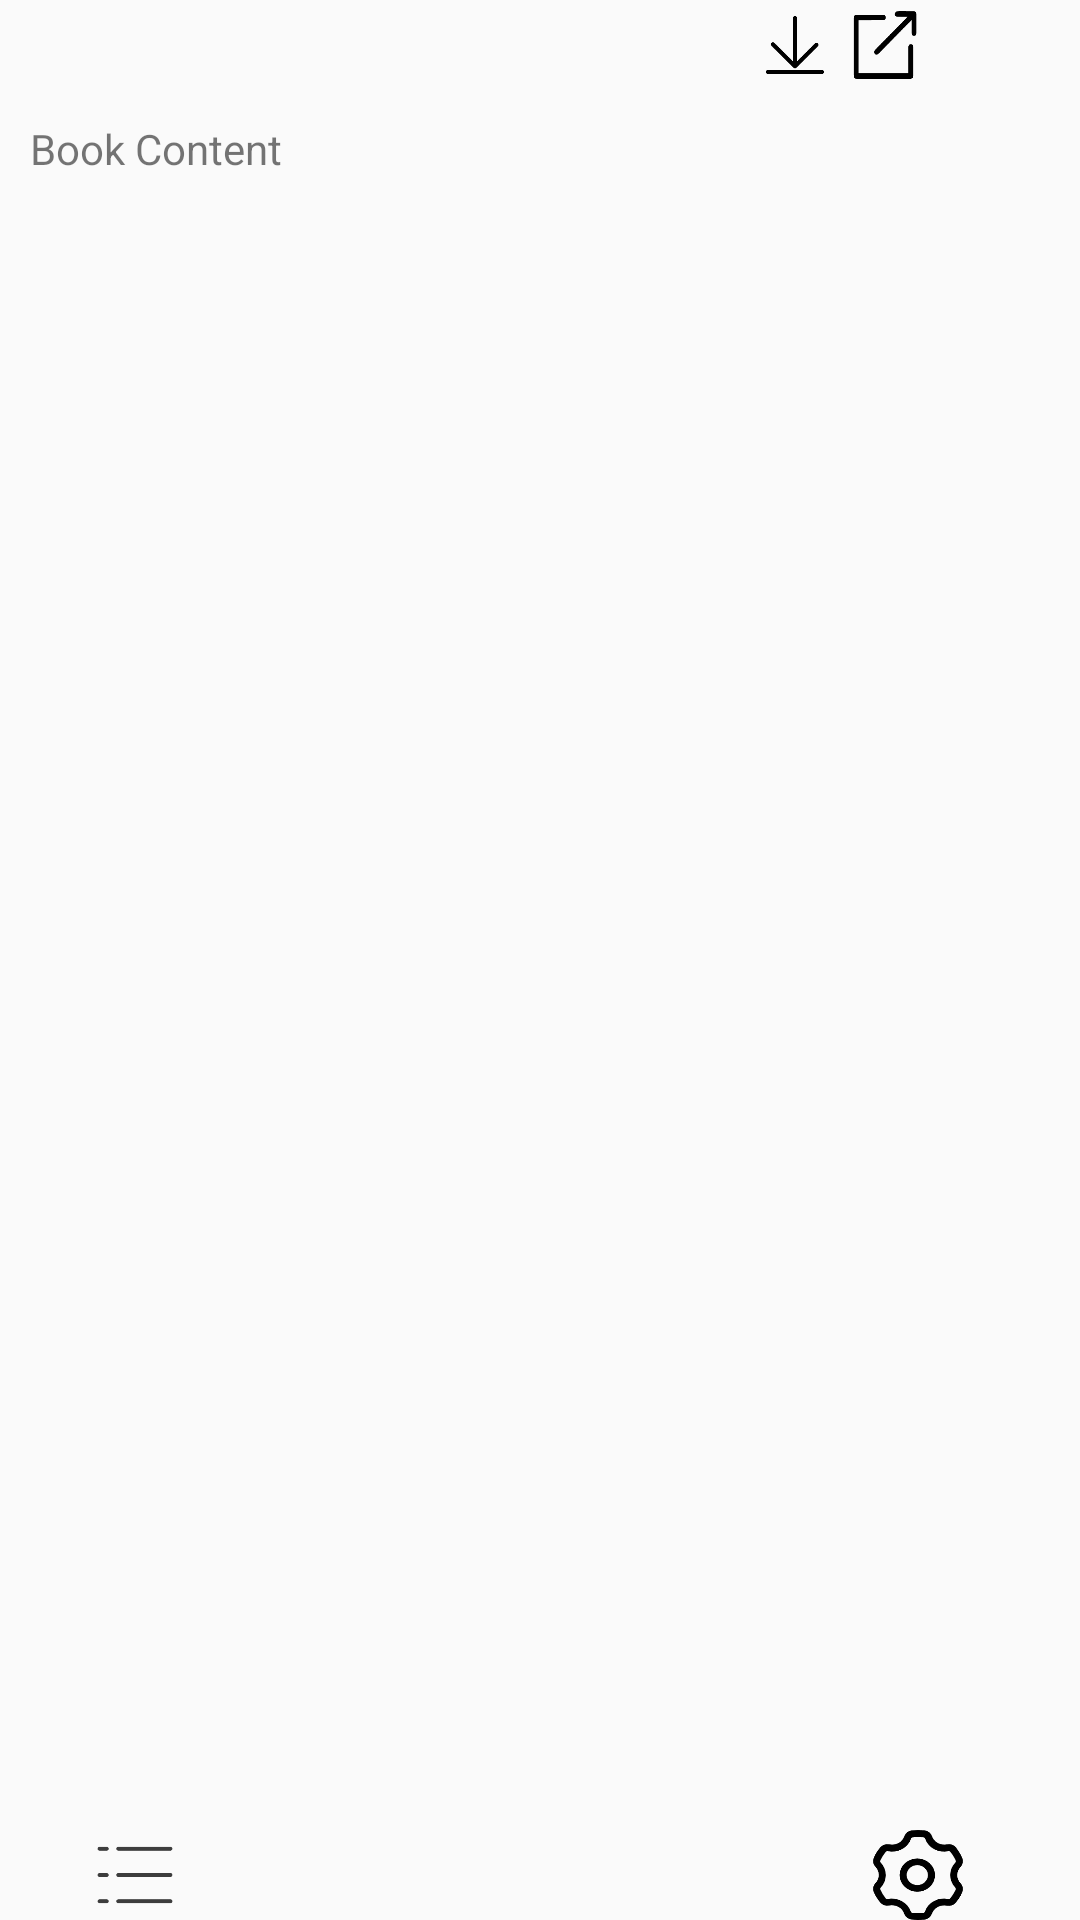

Icons on this 1080 × 1920 Android screen, each with the point to tap as (x,y):
directory: (135,1875)
download: (795,45)
repost: (885,45)
set: (918,1875)
